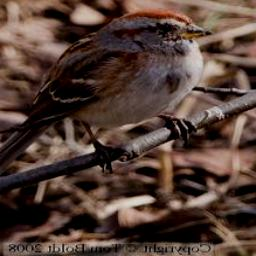Sparrow: (0, 5, 215, 200)
